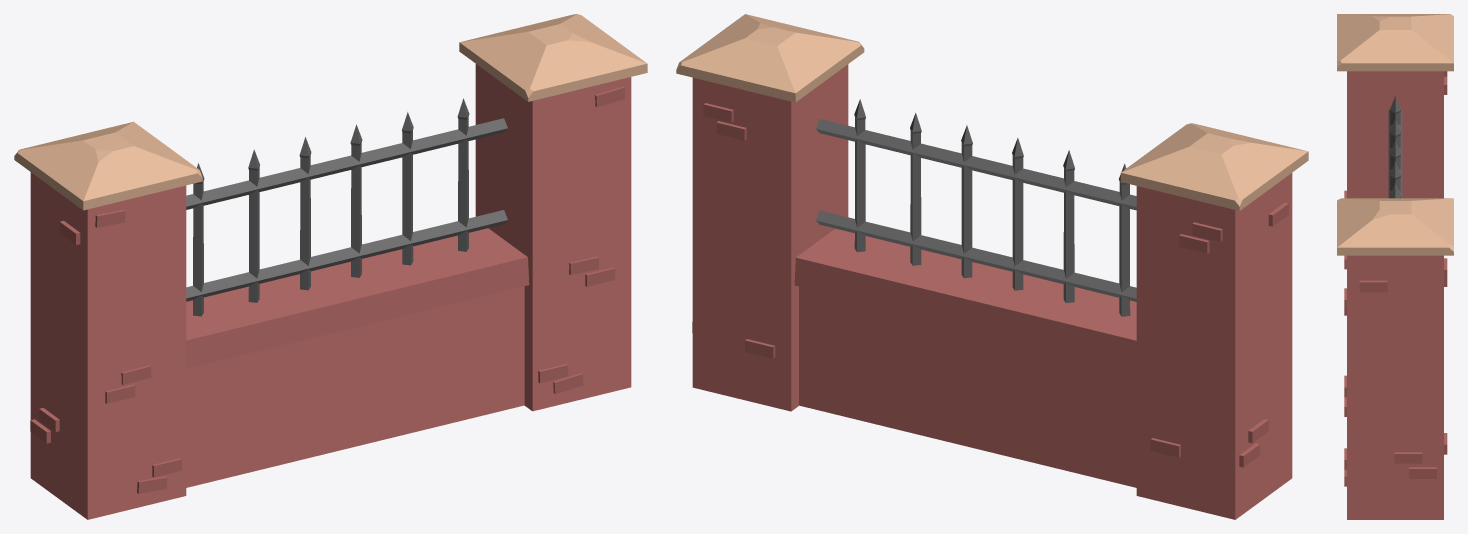
Rendered from Fence End.glb.
3 renders of one model, left to right at view 1: azimuth 30°, elevation 25°; view 2: azimuth 150°, elevation 25°; view 3: azimuth 270°, elevation 25°, orthographic. The views are drawn at different scales.
Visible parts, largest first — view 1: FenceEnd; view 2: FenceEnd; view 3: FenceEnd.
Part boxes in pixels (x1=…): FenceEnd: x1=14, y1=14, x2=647, y2=519; FenceEnd: x1=676, y1=14, x2=1308, y2=519; FenceEnd: x1=1337, y1=14, x2=1453, y2=519.
Bounding box in the file's own units: 1.35 × 0.7876 × 0.286.
